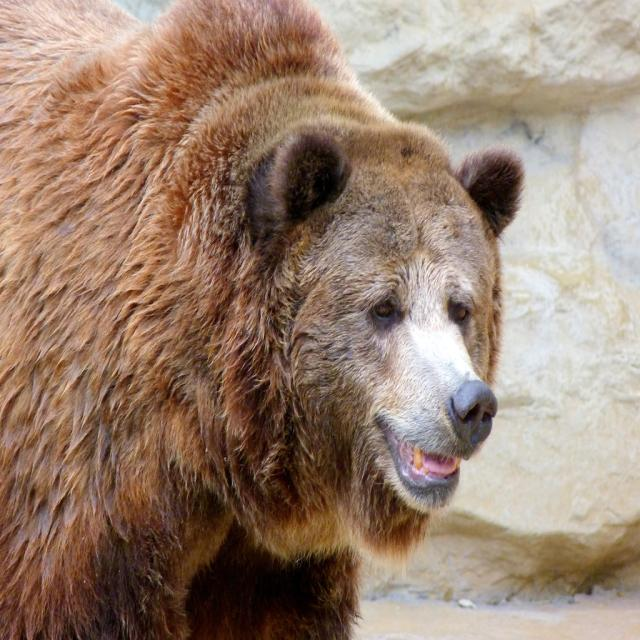Cheetahs: (0, 0, 526, 639)
